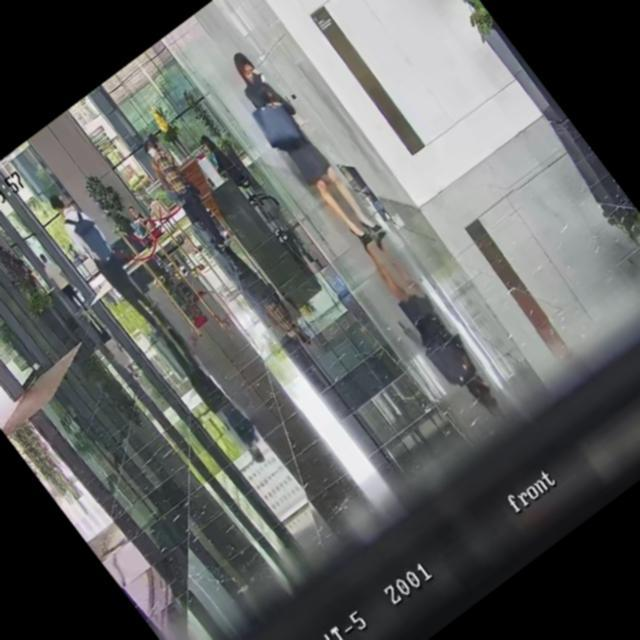person: (217, 45, 390, 258), (44, 184, 172, 342), (136, 132, 238, 255), (34, 248, 92, 318), (196, 130, 246, 188), (122, 203, 160, 248)
